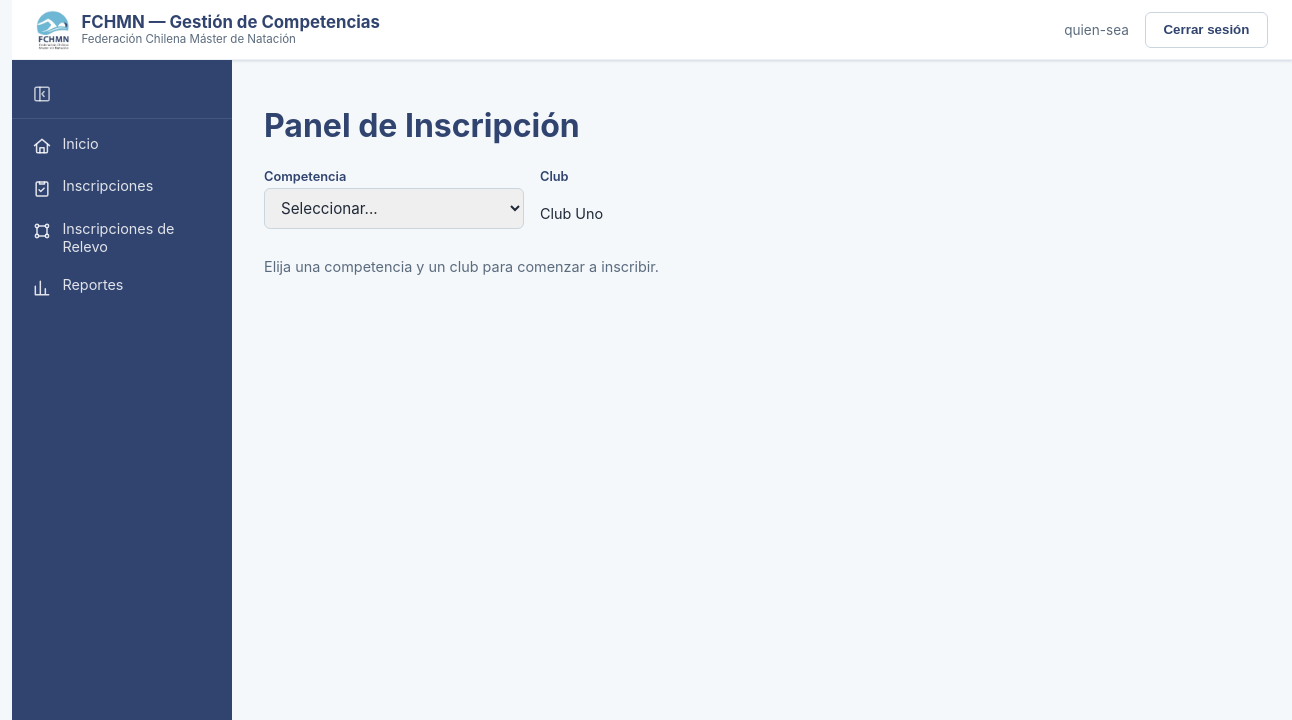
Scenario: el error de carga pertenece a la vista que lo produjo › al cambiar de competencia, el error de la anterior desaparece de inmediato
Expected: the text "Club Uno" is shown, [540,205,603,222]
Select "Competencia A" in the dropdown: (394,209) [264,188,524,229]
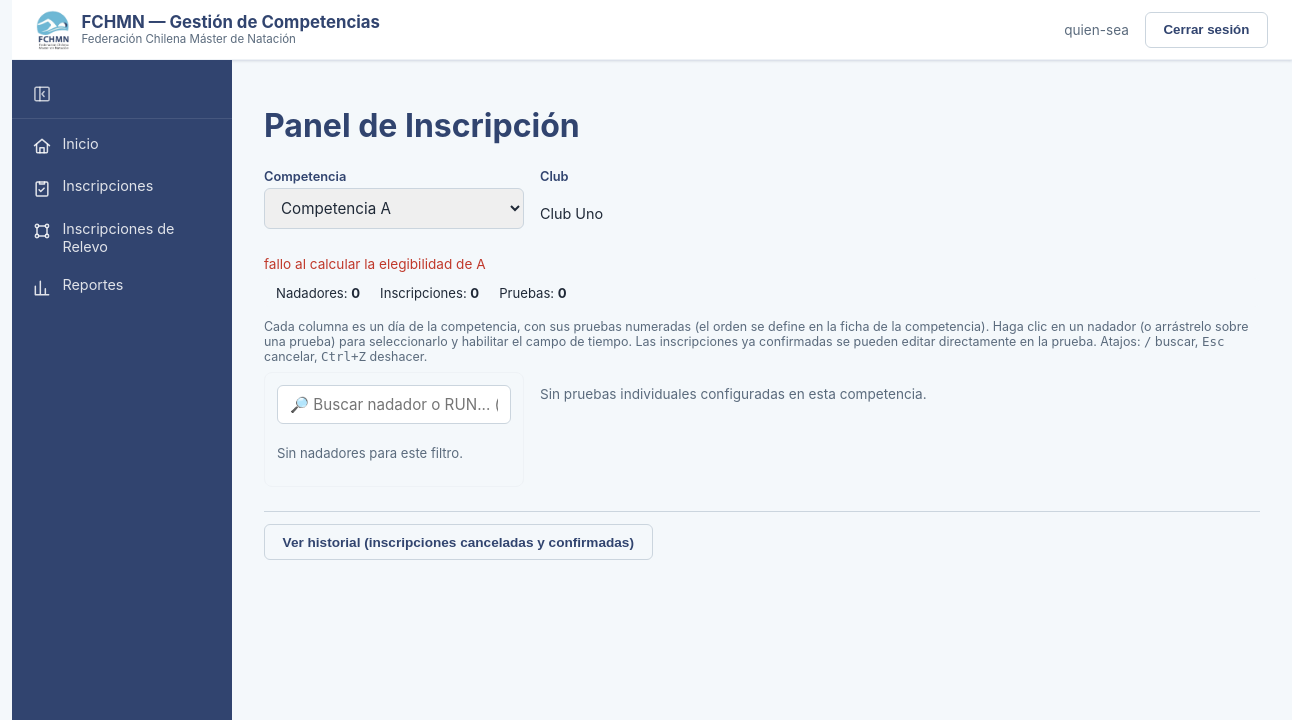
Expected: the text "fallo al calcular la elegibilidad de A" is shown, [264,256,486,272]
Select "Competencia B" in the dropdown: (394,209) [264,188,524,229]
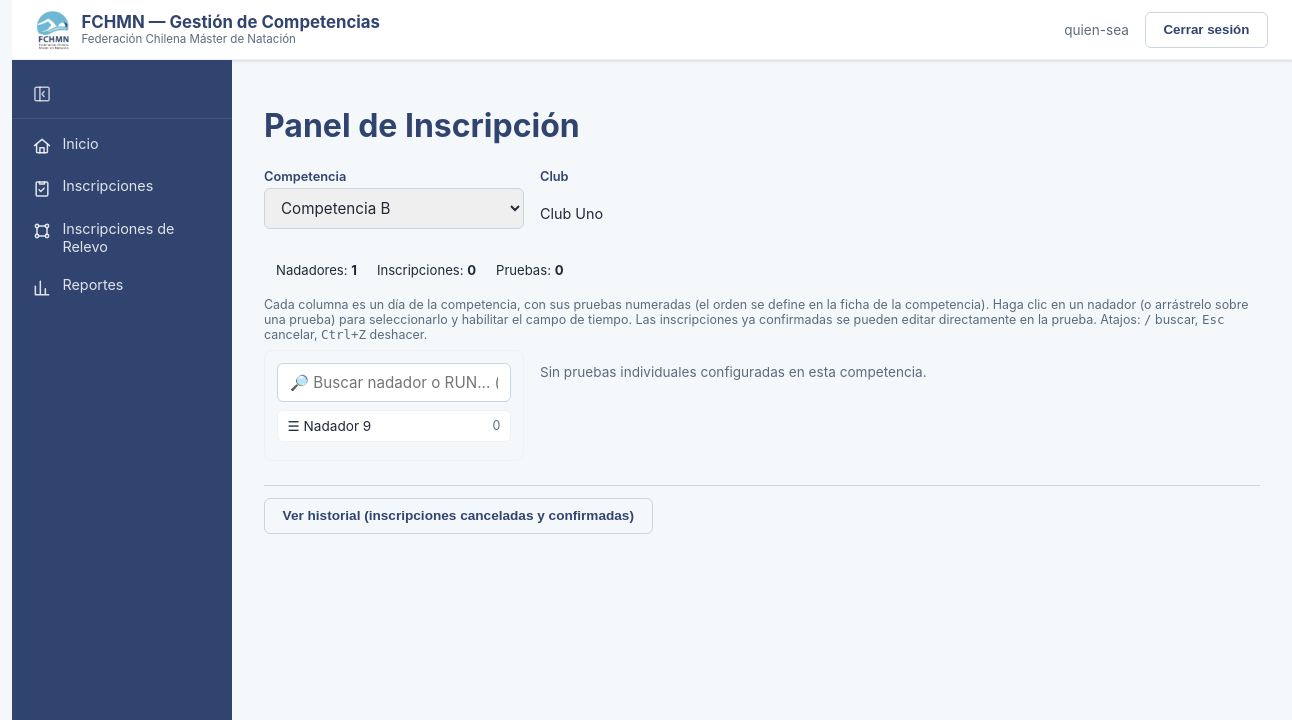
Expected: the text "fallo al calcular la elegibilidad de A" is gone
Expected: the text "fallo al calcular" is gone
